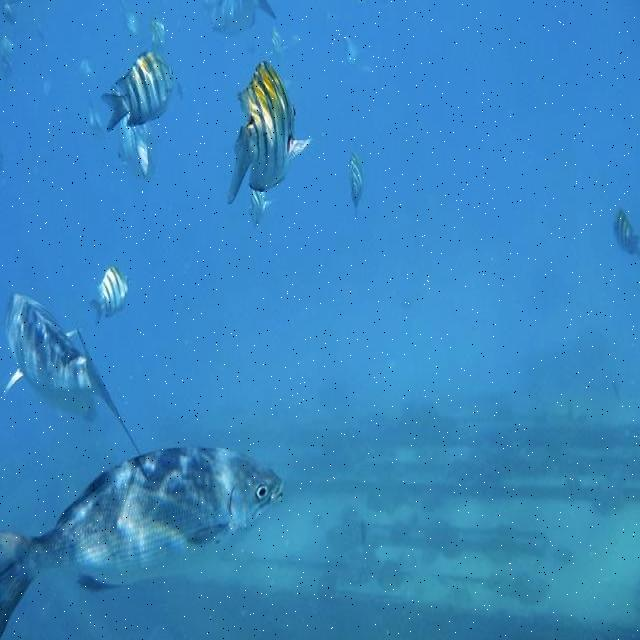fish: (0, 443, 285, 639), (5, 293, 136, 448), (228, 54, 315, 204), (104, 54, 173, 129), (91, 265, 130, 325), (615, 205, 639, 255), (348, 156, 363, 214), (248, 191, 271, 227)
